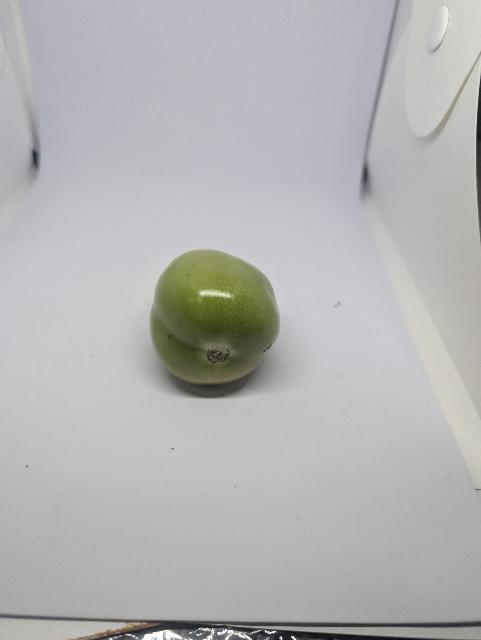green: (140, 236, 322, 404)
